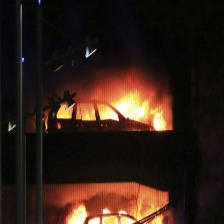fire: (99, 91, 169, 129)
